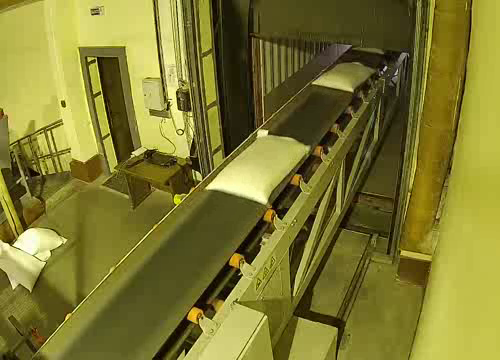bag: (200, 129, 314, 208), (310, 60, 383, 94), (353, 45, 386, 56)
